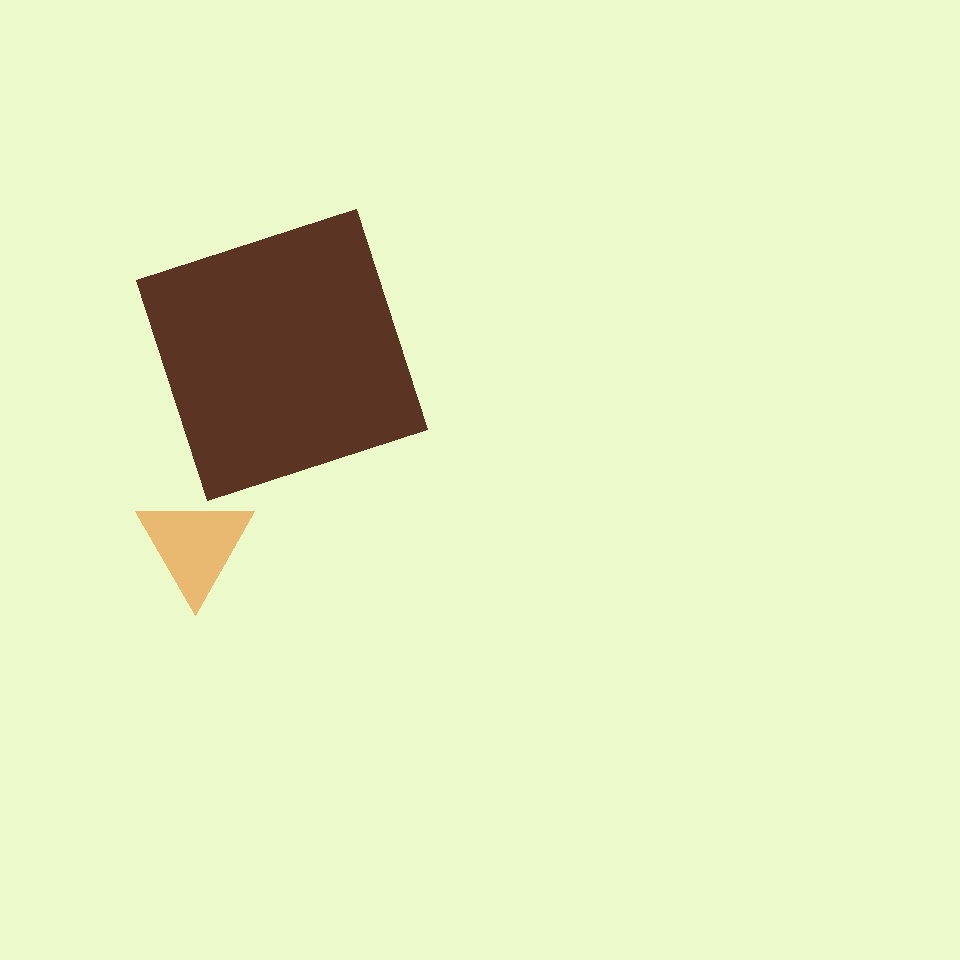circle: (263, 161, 582, 480), (136, 494, 255, 598)
square: (137, 210, 428, 500)
triangle: (514, 446, 823, 756)
